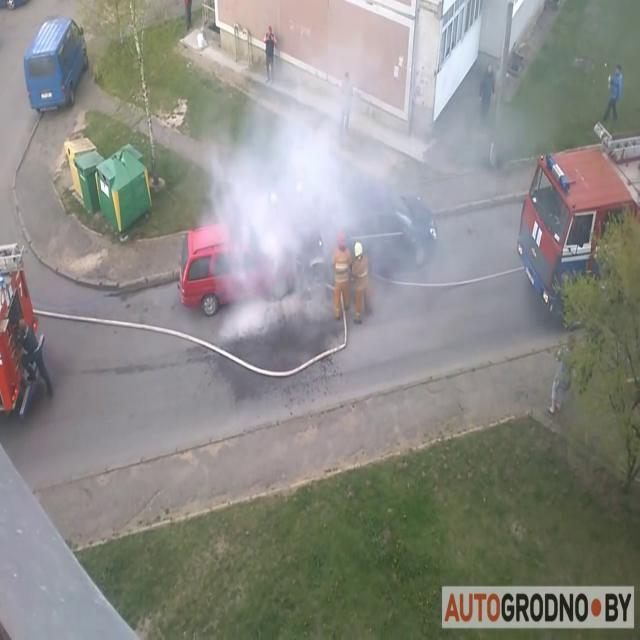Smoke: (196, 50, 386, 332)
